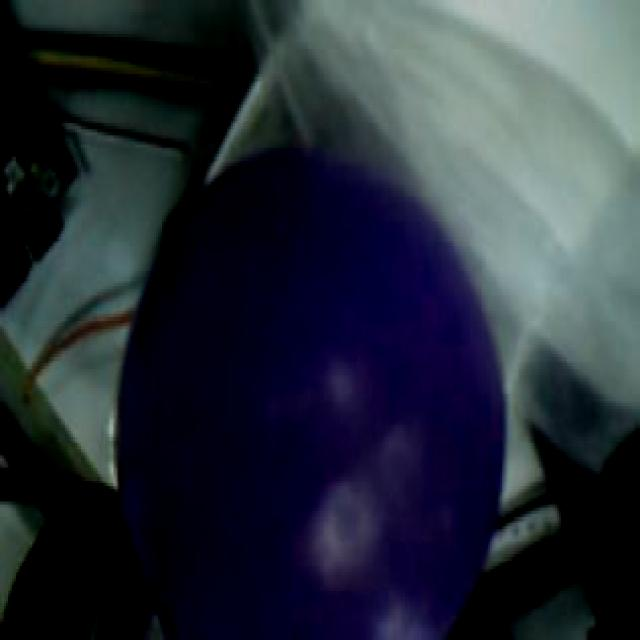BallPurple: (119, 151, 508, 640)
